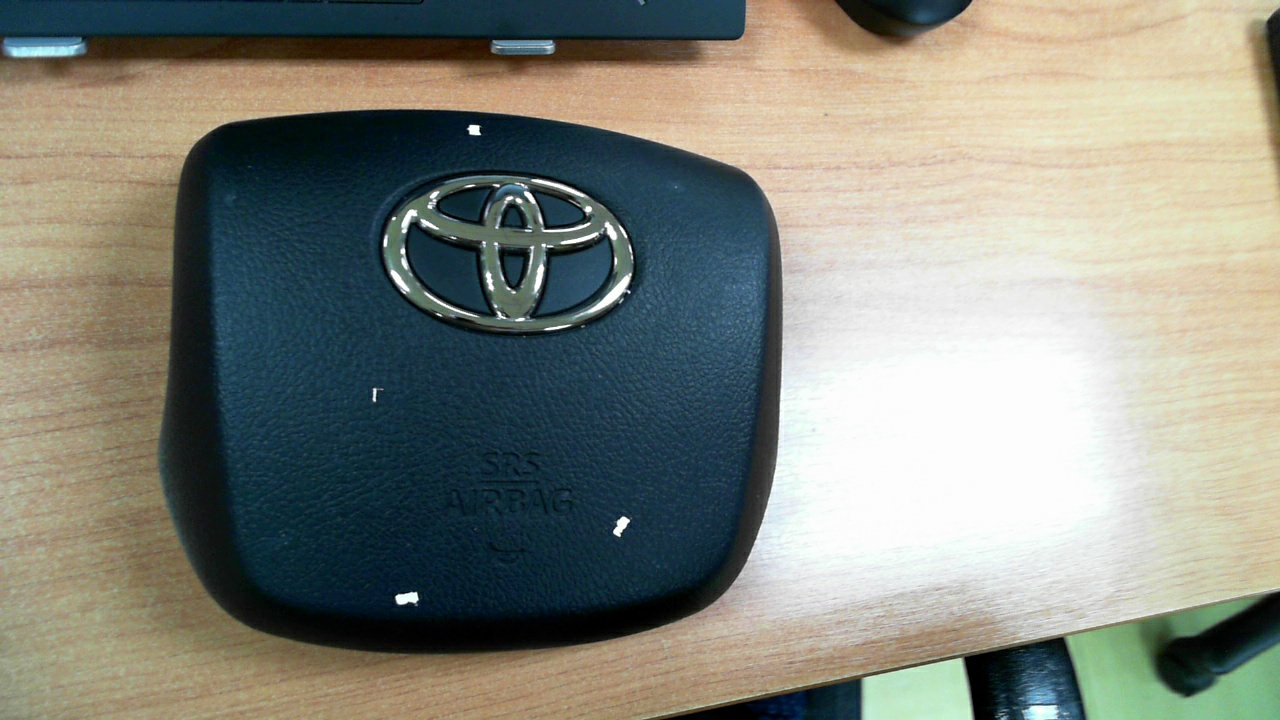Airbag: (159, 109, 784, 653)
Mark: (613, 516, 631, 538), (395, 592, 420, 607), (372, 387, 385, 403), (467, 124, 482, 135), (674, 185, 678, 189)
